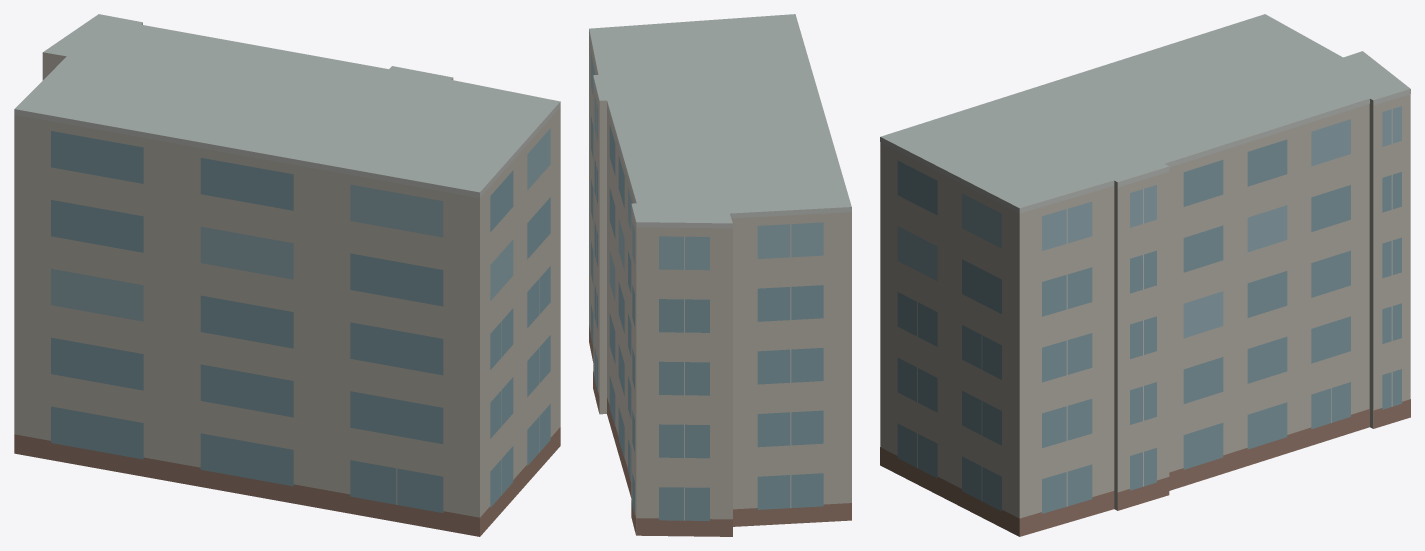
File: survey-upis-32915813.glb
The picture shows the model from 3 angles, left to right: view 1: azimuth 30°, elevation 25°; view 2: azimuth 150°, elevation 25°; view 3: azimuth 270°, elevation 25°; orthographic projection. The views are drawn at different scales.
Visible parts, largest first — view 1: survey-upis-32915813.tmp; view 2: survey-upis-32915813.tmp; view 3: survey-upis-32915813.tmp.
Part boxes in pixels (<box>): survey-upis-32915813.tmp: <box>14,14,560,536</box>; survey-upis-32915813.tmp: <box>589,14,851,536</box>; survey-upis-32915813.tmp: <box>880,14,1410,536</box>.
Size of the model in its own units: 19.34 by 15.25 by 22.33.
